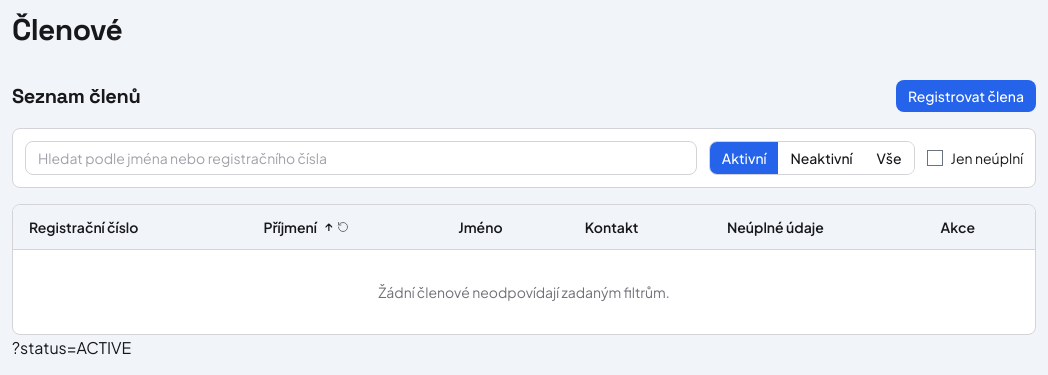
MembersPage — filter bar integration › clicking "Jen neúplní" updates the URL to ?incomplete=true when hasManageAuthority is true
The width and height of the screenshot is (1048, 375).
Click the checkbox labelled "Jen neúplní" at (935, 158), box [927, 150, 943, 166]
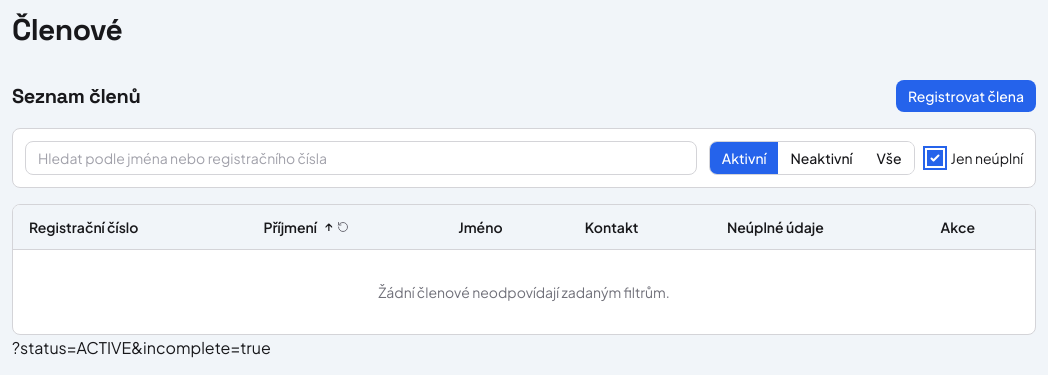
Now the text with test id "search-string" shows "incomplete=true", box [12, 337, 271, 358]
